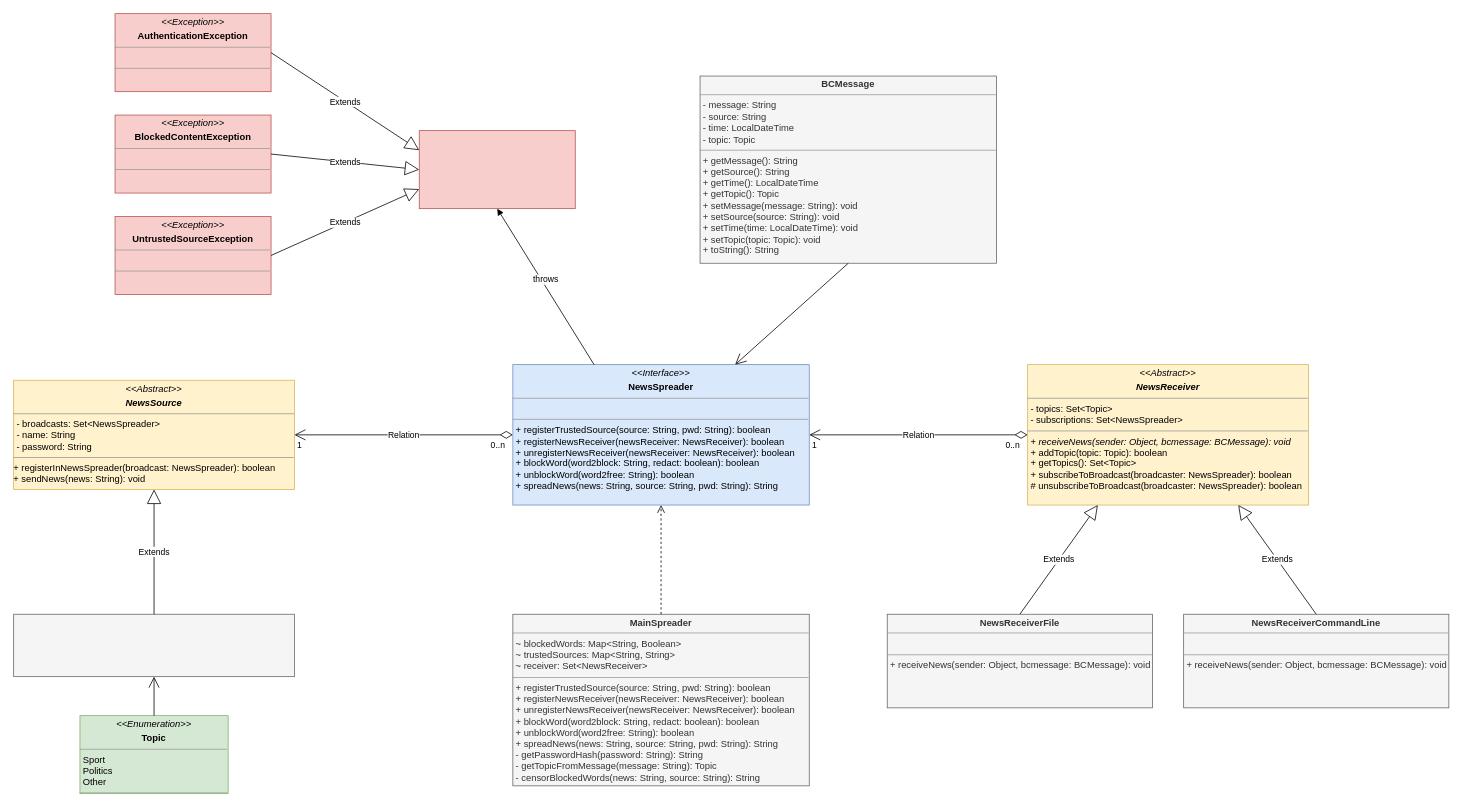
The diagram is 1463 pixels wide and 807 high, and some of its shapes have lost their labels. The shapes that lost their labels are listed below. From the top down, each one's box as (x1, y1, x2, y2) in pixels, then its label:
(418, 130, 575, 209): <<Exception>> NewsSpreaderException
(13, 613, 294, 677): RandomNewsSource + generateMessage(): String
